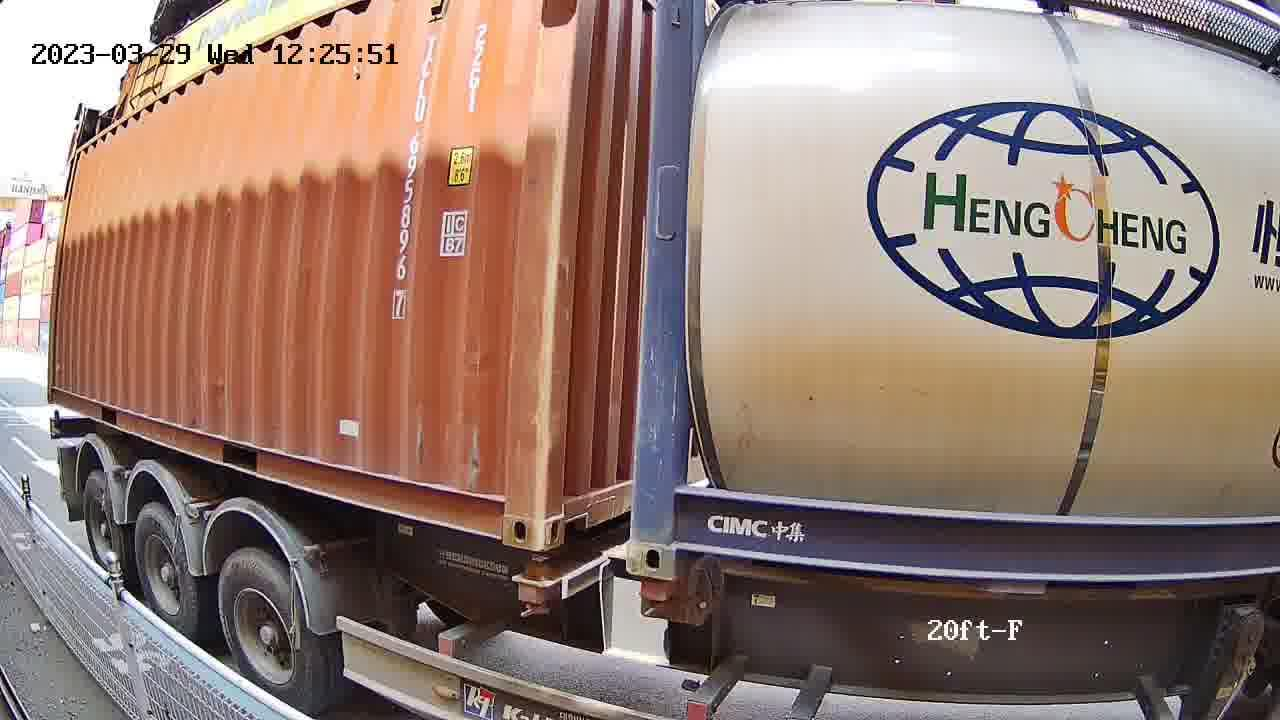Cone: (514, 558, 555, 617), (639, 575, 676, 620)
Hole_L: (630, 496, 719, 581), (538, 468, 597, 552)
Hole_R: (471, 471, 540, 553)
Tire: (217, 549, 311, 708), (135, 507, 196, 637), (83, 475, 123, 577)
